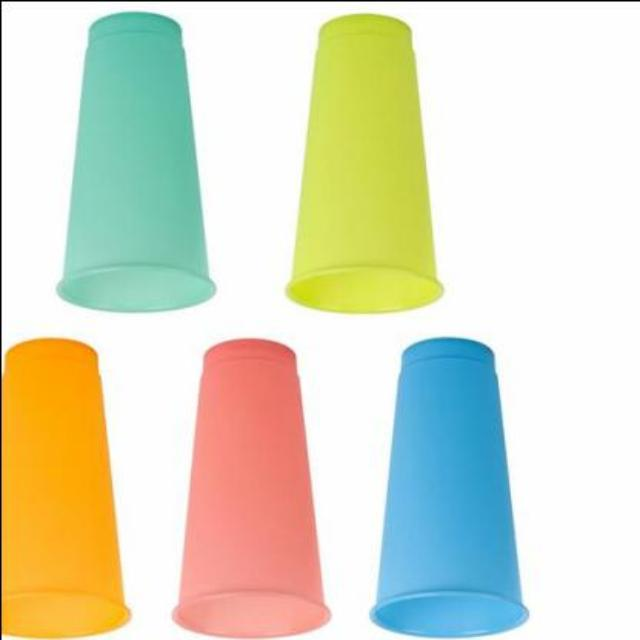plastic_box: (48, 10, 210, 316), (281, 11, 444, 312), (373, 332, 533, 638), (167, 338, 325, 638), (1, 332, 134, 638)
